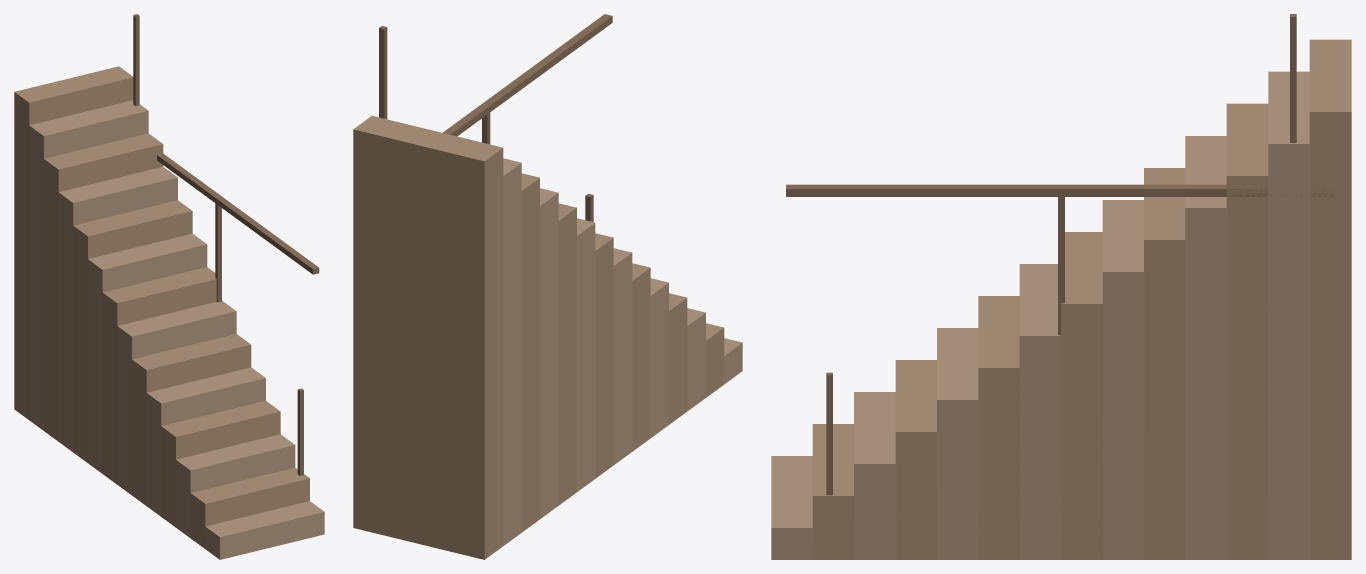
File: 0953-Furniture-interiors-stairs.glb
3 renders of one model, left to right at view 1: azimuth 30°, elevation 25°; view 2: azimuth 150°, elevation 25°; view 3: azimuth 270°, elevation 25°, orthographic. The views are drawn at different scales.
Parts seen in each view (by area): view 1: Furniture (interiors)/stairs; view 2: Furniture (interiors)/stairs; view 3: Furniture (interiors)/stairs.
Part boxes in pixels (x1,y1,x2,y2): Furniture (interiors)/stairs: (14, 14, 324, 559); Furniture (interiors)/stairs: (353, 14, 742, 559); Furniture (interiors)/stairs: (771, 14, 1351, 559).
Size of the model in its own units: 1 by 3.51 by 3.4.
